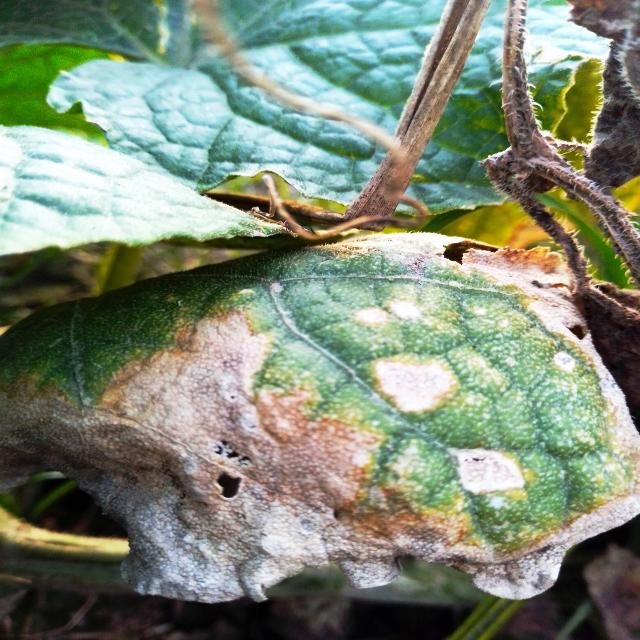Gummy-Stem-Blight: (0, 234, 640, 616)
